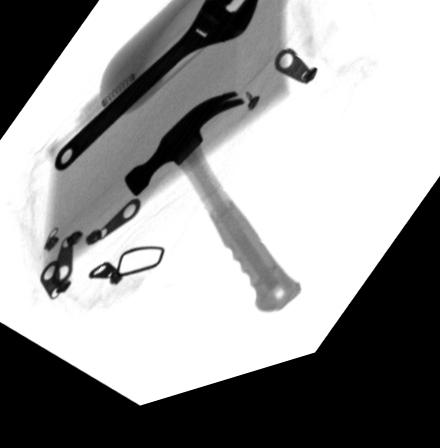Hammer: (123, 102, 302, 328)
Wrench: (51, 0, 258, 177)
